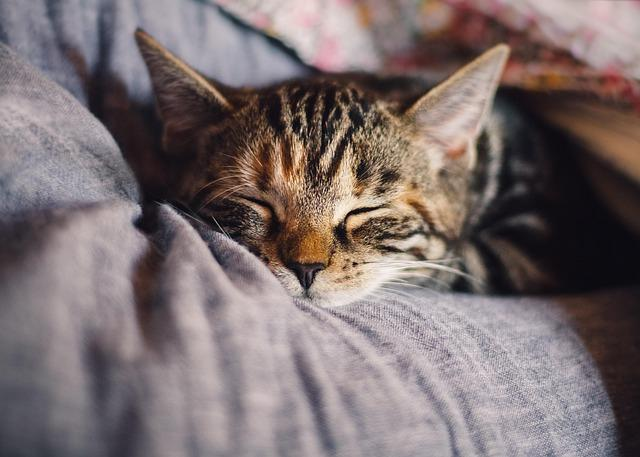kedo: (134, 23, 504, 304)
